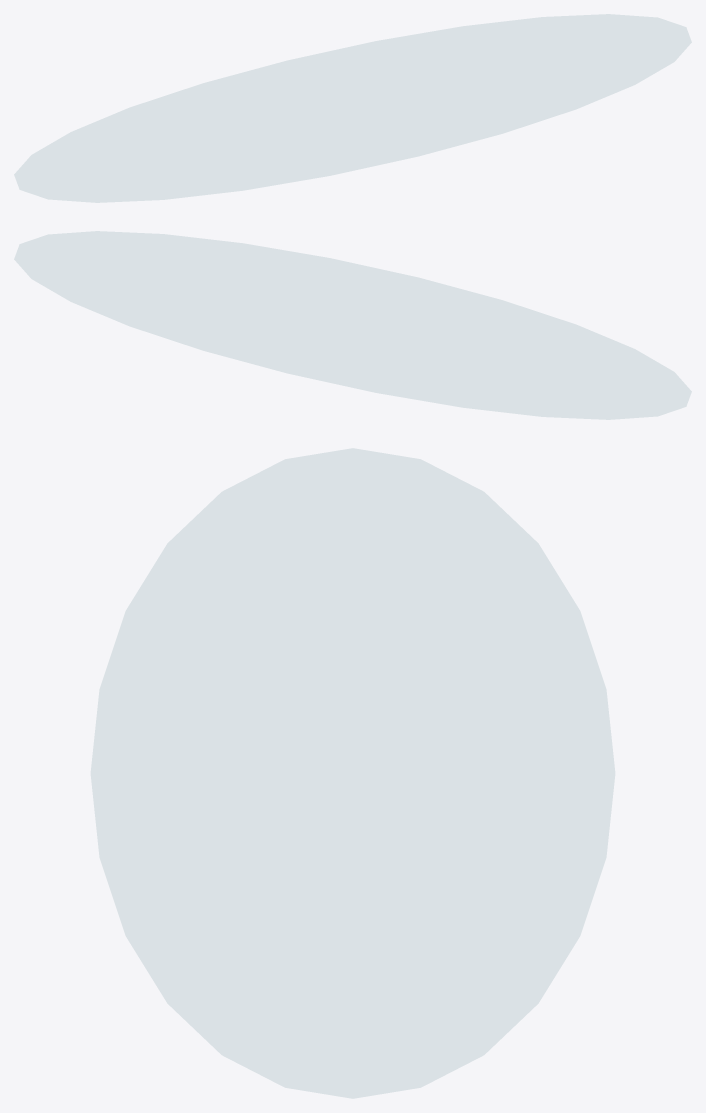
File: sea_shadow.glb
The picture shows the model from 3 angles, top to bottom: view 1: azimuth 30°, elevation 25°; view 2: azimuth 150°, elevation 25°; view 3: azimuth 270°, elevation 25°; orthographic projection. The views are drawn at different scales.
Parts seen in each view (by area): view 1: sea_shadow; view 2: sea_shadow; view 3: sea_shadow.
Part boxes in pixels (x1=…): sea_shadow: x1=14, y1=14, x2=691, y2=202; sea_shadow: x1=14, y1=231, x2=691, y2=419; sea_shadow: x1=90, y1=448, x2=615, y2=1098.
Bounding box in the file's own units: 0.44 × 0 × 0.15.
